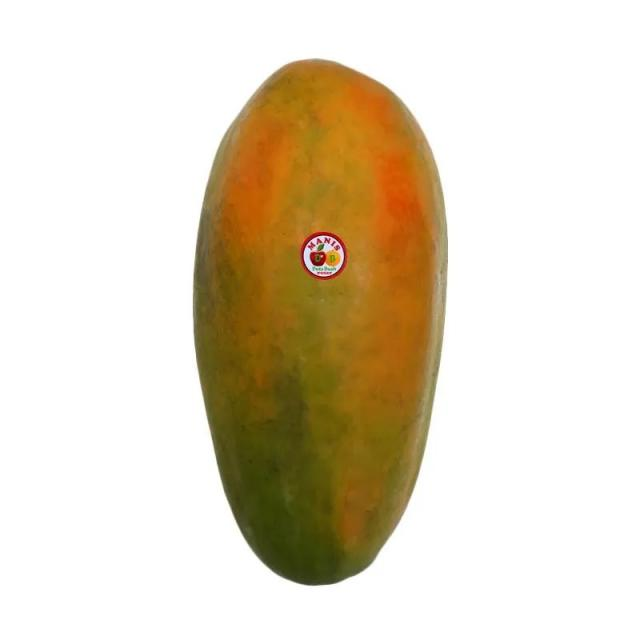Pepaya rippen: (192, 52, 454, 594)
